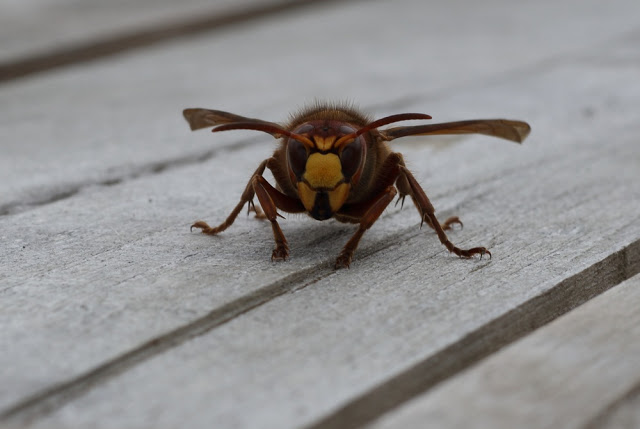hornet: (198, 91, 474, 268)
